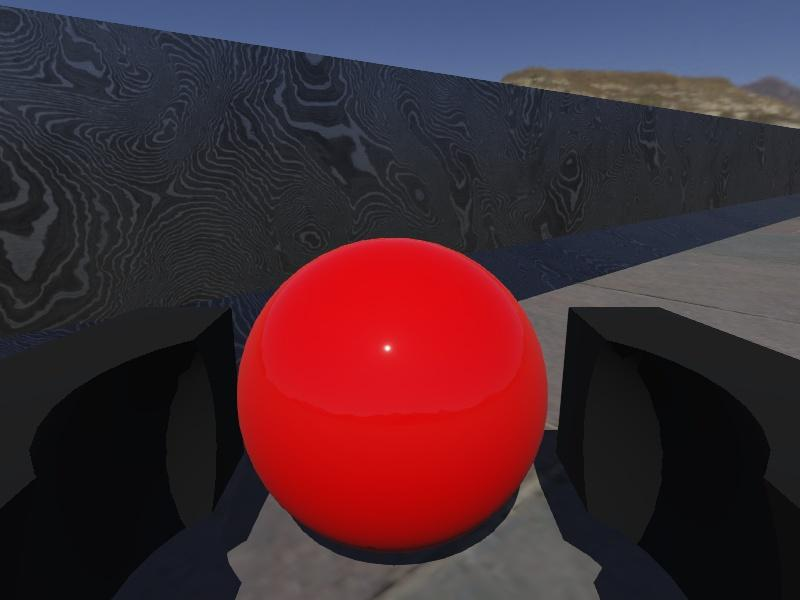red ball: (235, 235, 549, 559)
